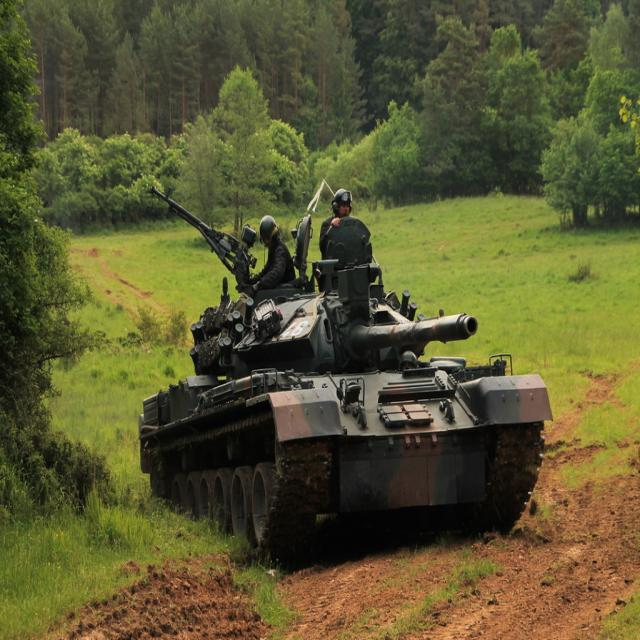tank: (137, 185, 552, 570)
